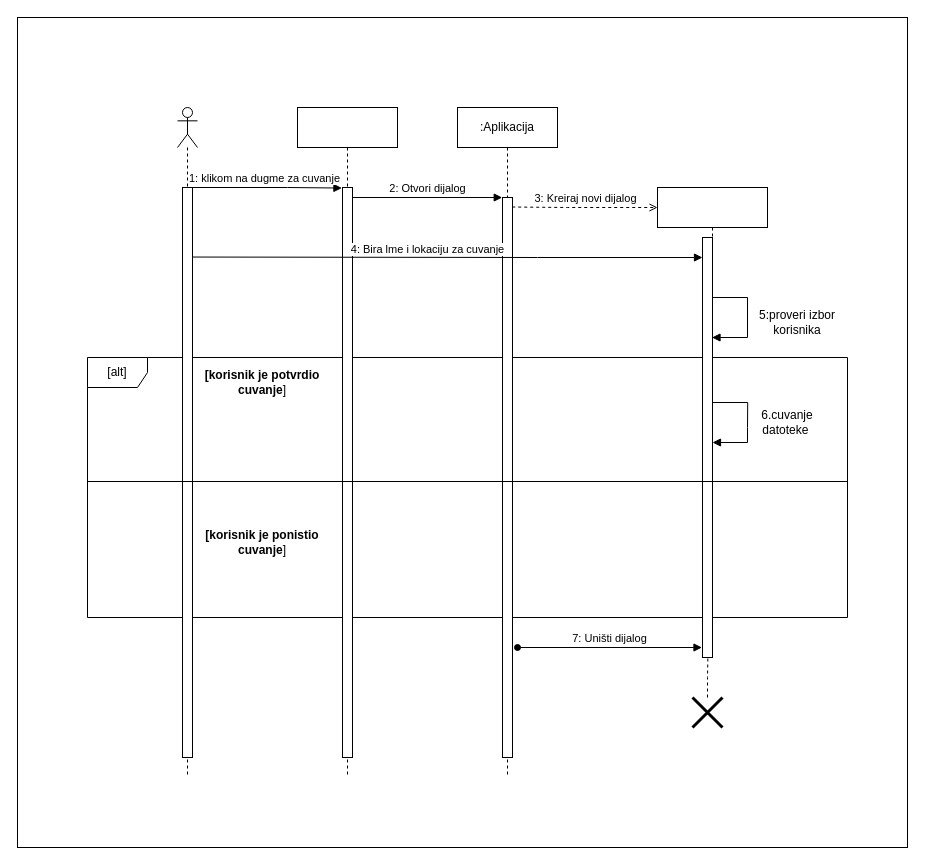
Some shapes in this 925 by 865 pixel diagram are drawn without their labels. Each missing label, with the box of its shape:
:Dijalog datoteka: (656, 186, 768, 658)
:Glavni prozor: (296, 106, 398, 778)
